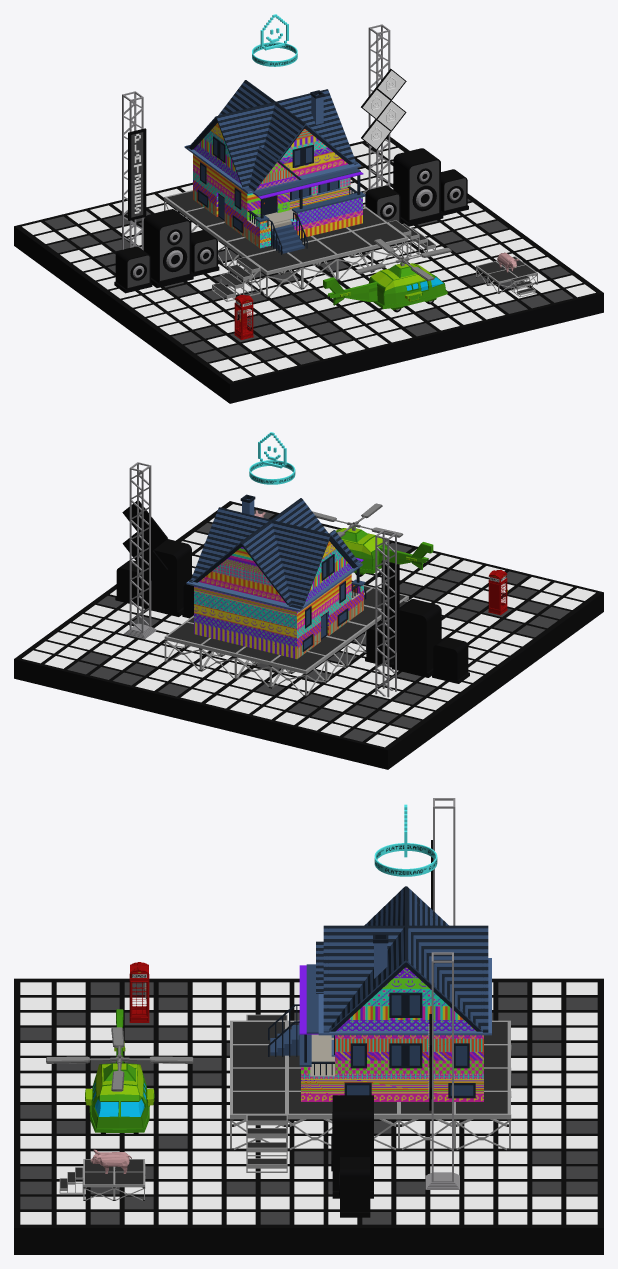
3 renders of one model, top to bottom at view 1: azimuth 30°, elevation 25°; view 2: azimuth 150°, elevation 25°; view 3: azimuth 270°, elevation 25°, orthographic. The views are drawn at different scales.
Visible parts, largest first — view 1: Cube.008, Cube.676, VEHICLES_HELICOPTER, TYPE_PREMIUM, OBJRANDOM_PHONEBOOTH; view 2: Cube.008, Cube.676, VEHICLES_HELICOPTER, TYPE_PREMIUM, OBJRANDOM_PHONEBOOTH; view 3: Cube.008, Cube.676, VEHICLES_HELICOPTER, TYPE_PREMIUM, OBJRANDOM_PHONEBOOTH.
Boxes of the visible parts, x1,y1,x2,y2 form: Cube.008: (14,24,603,403); Cube.676: (184,80,365,254); VEHICLES_HELICOPTER: (323,239,451,312); TYPE_PREMIUM: (252,14,297,66); OBJRANDOM_PHONEBOOTH: (234,294,253,339); Cube.008: (14,462,603,769); Cube.676: (186,494,366,658); VEHICLES_HELICOPTER: (312,503,433,576); TYPE_PREMIUM: (249,432,295,484); OBJRANDOM_PHONEBOOTH: (488,570,507,615); Cube.008: (14,798,603,1254); Cube.676: (268,886,491,1101); VEHICLES_HELICOPTER: (46,1009,193,1134); TYPE_PREMIUM: (374,804,437,876); OBJRANDOM_PHONEBOOTH: (129,962,149,1022).
Size of the model in its own units: 4000 by 2485 by 4000.
Materials: 49 (6 with a texture image).
